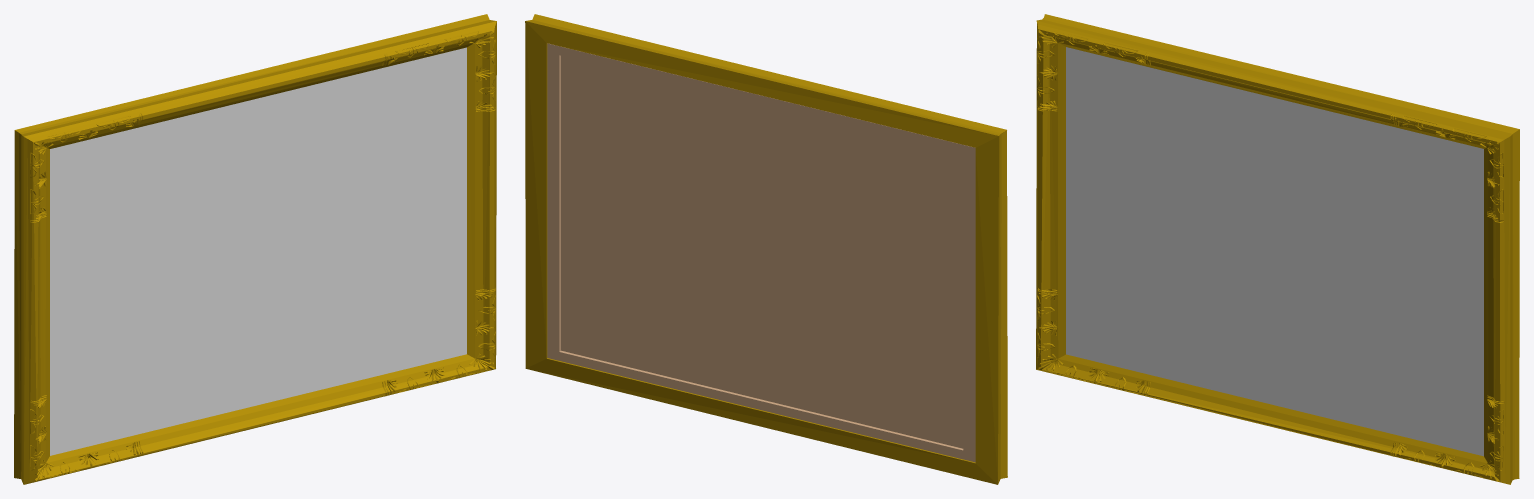
Rendered from frame2_golden_509_394.glb.
3 views of the same model, side by side, from view 1: azimuth 30°, elevation 25°; view 2: azimuth 150°, elevation 25°; view 3: azimuth 330°, elevation 25° (orthographic).
Parts seen in each view (by area): view 1: canvas, frame; view 2: ura, frame; view 3: canvas, frame.
Boxes of the visible parts, x1,y1,x2,y2 form: canvas: (50,47,466,455); frame: (14,14,496,484); ura: (547,43,975,462); frame: (525,14,1007,484); canvas: (1066,47,1483,456); frame: (1036,14,1519,484).
Size of the model in its own units: 298 by 210 by 16.8.
